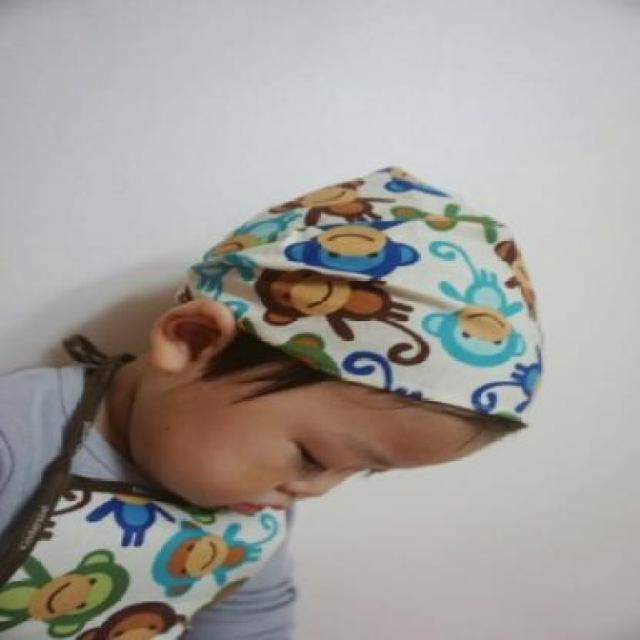hat: (184, 165, 542, 429)
